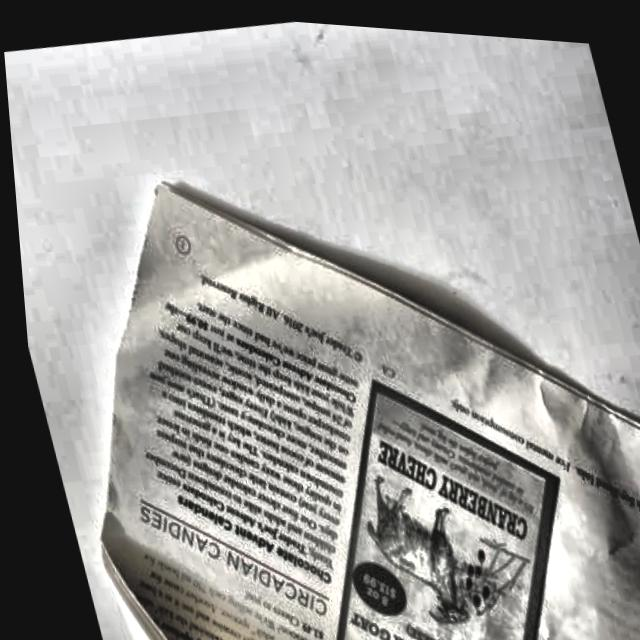Paper: (5, 80, 640, 640)
